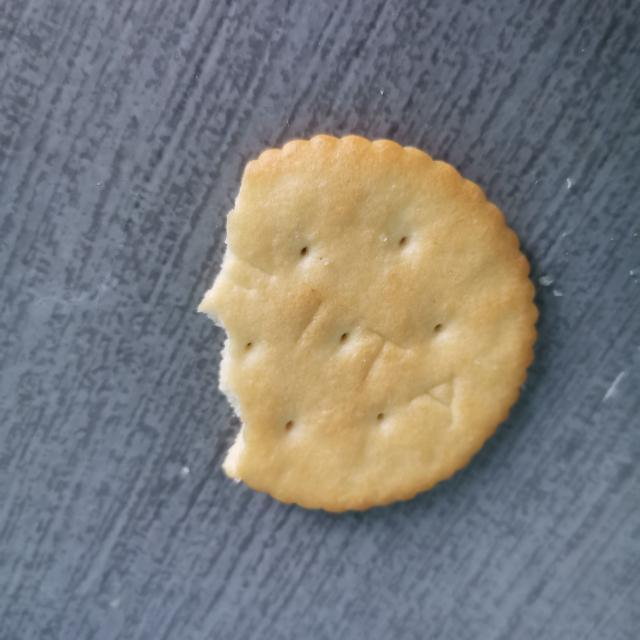Broken: (196, 131, 540, 513)
